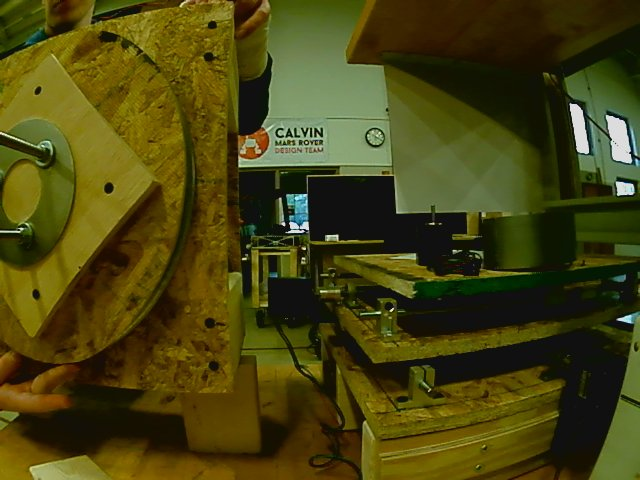bolt: (34, 138, 56, 171), (13, 220, 35, 251)
